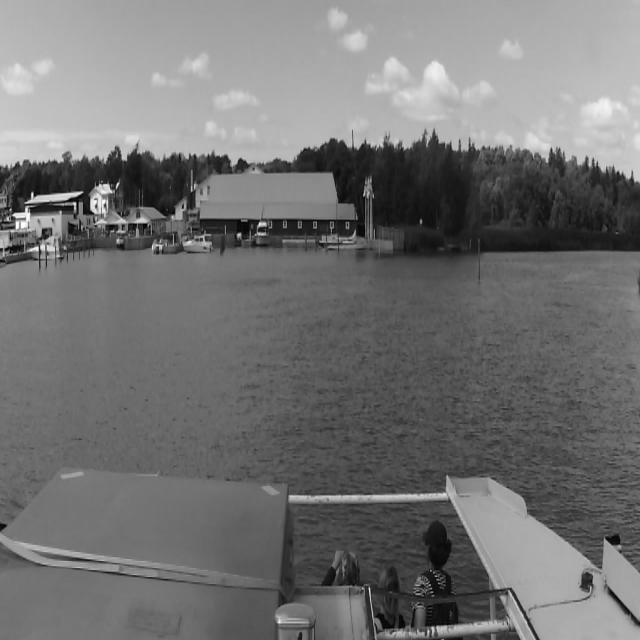buoy: (477, 236, 480, 280)
ship: (320, 125, 366, 252), (27, 235, 59, 261), (184, 231, 212, 252), (256, 220, 270, 247), (148, 236, 166, 254)
